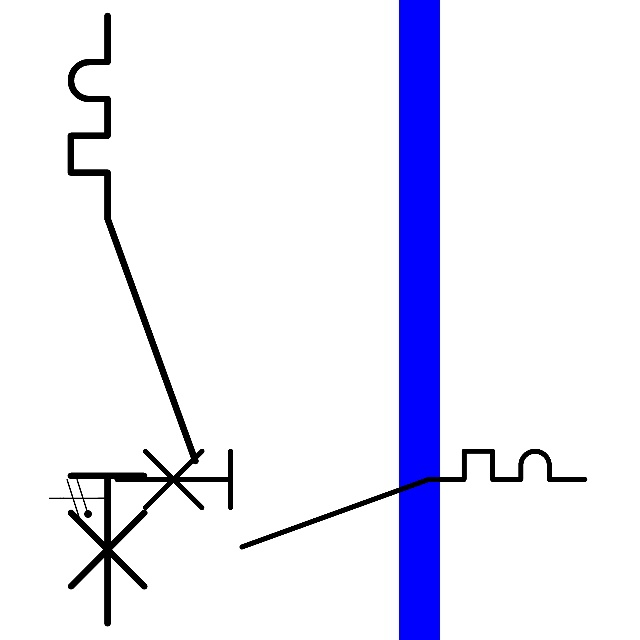interruptor_termomagnetico: (55, 0, 211, 639), (104, 439, 596, 559)
